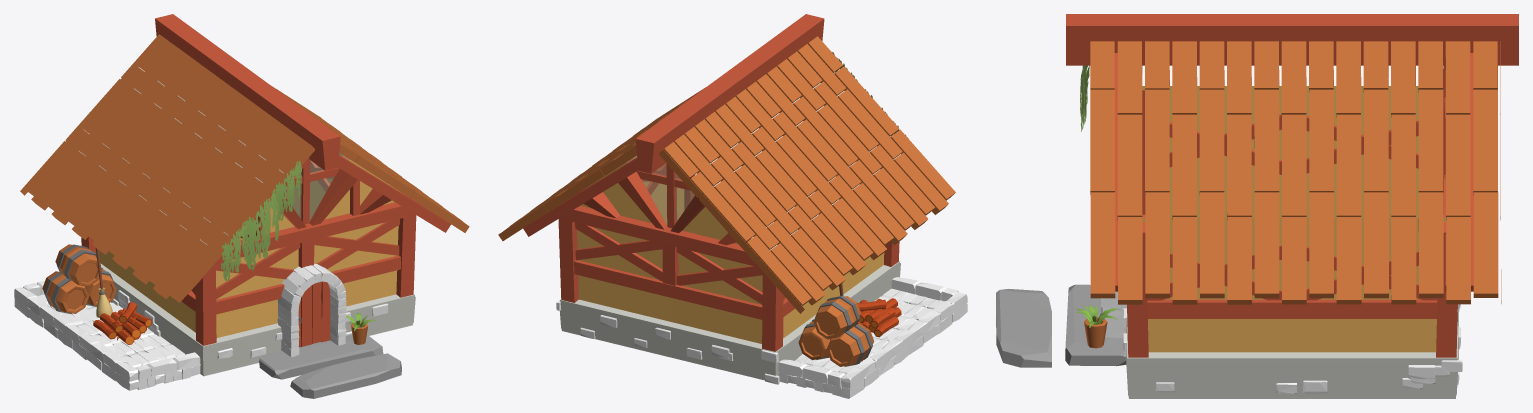
Rendered from house.glb.
The picture shows the model from 3 angles, left to right: view 1: azimuth 30°, elevation 25°; view 2: azimuth 150°, elevation 25°; view 3: azimuth 270°, elevation 25°; orthographic projection. The views are drawn at different scales.
Parts seen in each view (by area): view 1: ceil.001, wall, Plane.006, Cube, wall.001, brick door, Plane.004, floor stone.001, floor stone, Cube.018, Cube.021, brick curve.001 (+16 smaller); view 2: ceil.001, wall, Plane.006, wall.001, Cube, Plane.004, Cube.018, Cube.021, Cube.026, Cube.025, Plane.005, Cube.019 (+8 smaller); view 3: ceil.001, wall, Cube, wall.001, Cube.022, floor stone.001, Plane.004, floor stone, Plane.005, Cube.029, Cube.030, brick door (+1 smaller).
Part boxes in pixels (x1=…): ceil.001: x1=20, y1=34, x2=469, y2=302; wall: x1=99, y1=153, x2=414, y2=376; Plane.006: x1=14, y1=280, x2=200, y2=390; Cube: x1=155, y1=14, x2=340, y2=170; wall.001: x1=111, y1=285, x2=415, y2=373; brick door: x1=277, y1=263, x2=346, y2=356; Plane.004: x1=81, y1=187, x2=416, y2=345; floor stone.001: x1=290, y1=353, x2=401, y2=398; floor stone: x1=259, y1=334, x2=383, y2=379; Cube.018: x1=216, y1=202, x2=407, y2=263; Cube.021: x1=216, y1=255, x2=400, y2=314; brick curve.001: x1=298, y1=281, x2=330, y2=347; ceil.001: x1=498, y1=36, x2=955, y2=313; wall: x1=560, y1=155, x2=899, y2=380; Plane.006: x1=778, y1=277, x2=967, y2=398; wall.001: x1=556, y1=263, x2=900, y2=384; Cube: x1=635, y1=14, x2=824, y2=173; Plane.004: x1=558, y1=189, x2=899, y2=351; Cube.018: x1=567, y1=206, x2=758, y2=267; Cube.021: x1=574, y1=260, x2=762, y2=319; Cube.026: x1=575, y1=222, x2=762, y2=285; Cube.025: x1=575, y1=240, x2=762, y2=304; Plane.005: x1=523, y1=157, x2=751, y2=242; Cube.019: x1=618, y1=171, x2=704, y2=232; ceil.001: x1=1090, y1=41, x2=1501, y2=304; wall: x1=1127, y1=86, x2=1457, y2=398; Cube: x1=1066, y1=14, x2=1518, y2=65; wall.001: x1=1123, y1=304, x2=1462, y2=395; Cube.022: x1=1147, y1=299, x2=1437, y2=318; floor stone.001: x1=996, y1=289, x2=1051, y2=367; Plane.004: x1=1127, y1=90, x2=1457, y2=357; floor stone: x1=1065, y1=284, x2=1126, y2=366; Plane.005: x1=1114, y1=53, x2=1473, y2=291; Cube.029: x1=1169, y1=120, x2=1418, y2=300; Cube.030: x1=1147, y1=114, x2=1437, y2=300; brick door: x1=1100, y1=291, x2=1126, y2=337.
Size of the model in its own units: 12.02 by 8.12 by 12.32.
14 materials, 3 textured.
